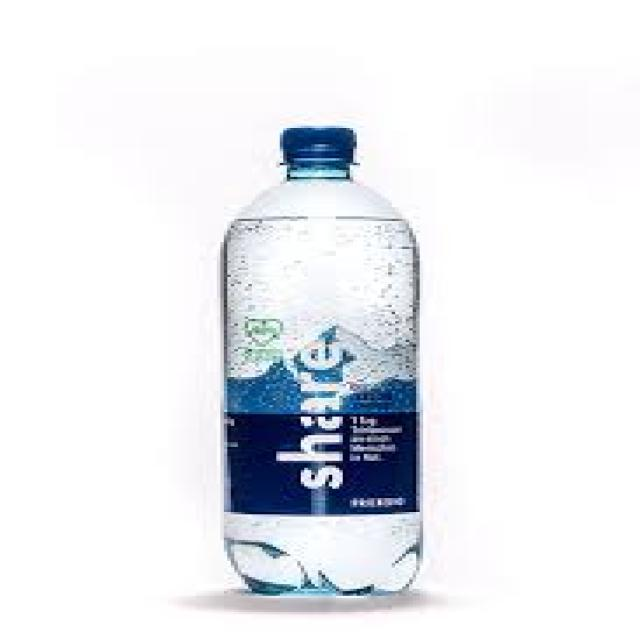Vidrio: (222, 135, 422, 590)
